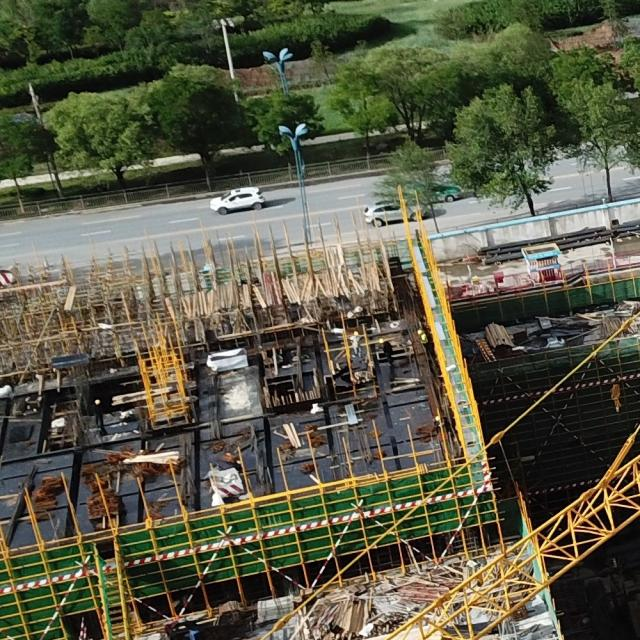crane: (386, 424, 640, 639)
